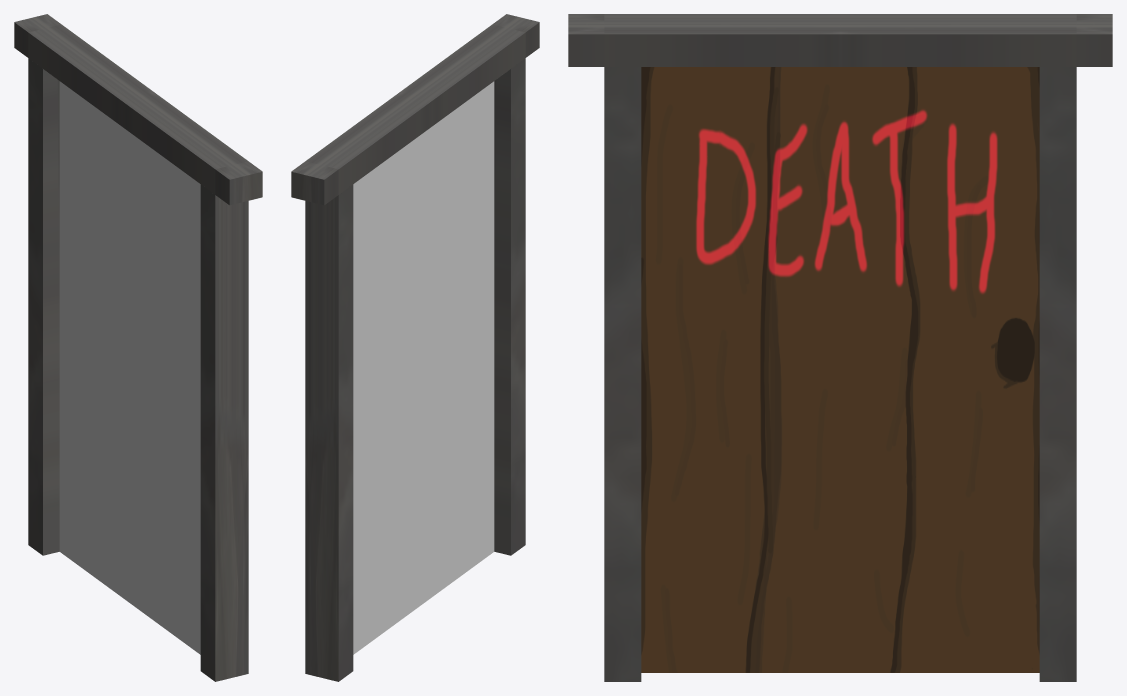
The model's file is DoorWayEmissive.fbx.
3 views of the same model, side by side, from view 1: azimuth 30°, elevation 25°; view 2: azimuth 150°, elevation 25°; view 3: azimuth 270°, elevation 25° (orthographic). The views are drawn at different scales.
Parts seen in each view (by area): view 1: Plane.001, Cube.001; view 2: Plane.001, Cube.001; view 3: Plane, Cube.001.
Boxes of the visible parts, x1,y1,x2,y2 form: Plane.001: (59, 81, 200, 654); Cube.001: (14, 14, 262, 681); Plane.001: (353, 81, 494, 654); Cube.001: (291, 14, 539, 681); Plane: (641, 67, 1039, 672); Cube.001: (568, 14, 1112, 681).
Bounding box in the file's own units: 41.06 × 605 × 461.
